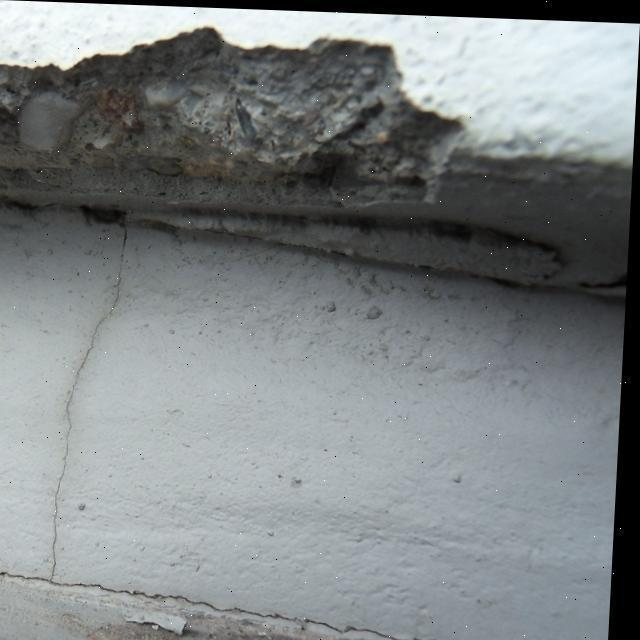D10: (2, 30, 465, 217)
